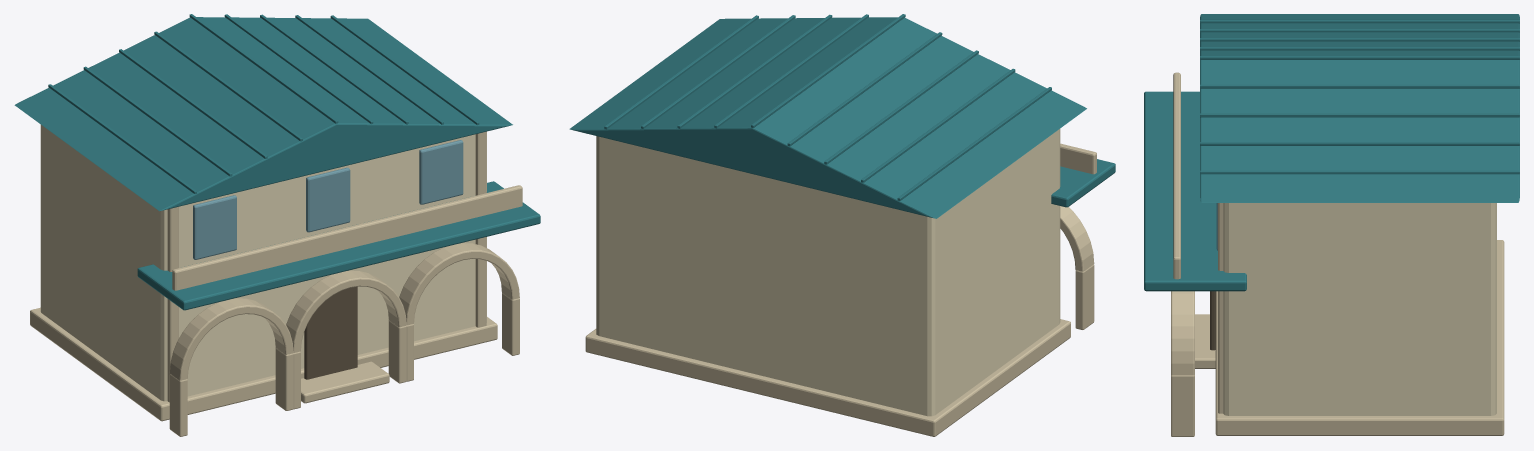
Rendered from arcade.glb.
3 views of the same model, side by side, from view 1: azimuth 30°, elevation 25°; view 2: azimuth 150°, elevation 25°; view 3: azimuth 270°, elevation 25° (orthographic). The views are drawn at different scales.
Visible parts, largest first — view 1: Geometry_TealTile, Geometry_Stucco, Geometry_Sandstone, Geometry_Window, Geometry_Timber; view 2: Geometry_Stucco, Geometry_TealTile, Geometry_Sandstone; view 3: Geometry_TealTile, Geometry_Stucco, Geometry_Sandstone, Geometry_Timber.
Boxes of the visible parts, box(x1,y1,x2,y2) form: Geometry_TealTile: box(14, 14, 540, 310); Geometry_Stucco: box(40, 124, 486, 401); Geometry_Sandstone: box(30, 131, 522, 436); Geometry_Window: box(193, 140, 463, 259); Geometry_Timber: box(304, 286, 357, 379); Geometry_Stucco: box(596, 129, 1060, 416); Geometry_TealTile: box(569, 14, 1115, 218); Geometry_Sandstone: box(585, 143, 1096, 436); Geometry_TealTile: box(1144, 14, 1519, 291); Geometry_Stucco: box(1223, 203, 1496, 415); Geometry_Sandstone: box(1171, 72, 1504, 436); Geometry_Timber: box(1210, 291, 1216, 350).
Size of the model in its own units: 7.9 by 5.6 by 6.58.
